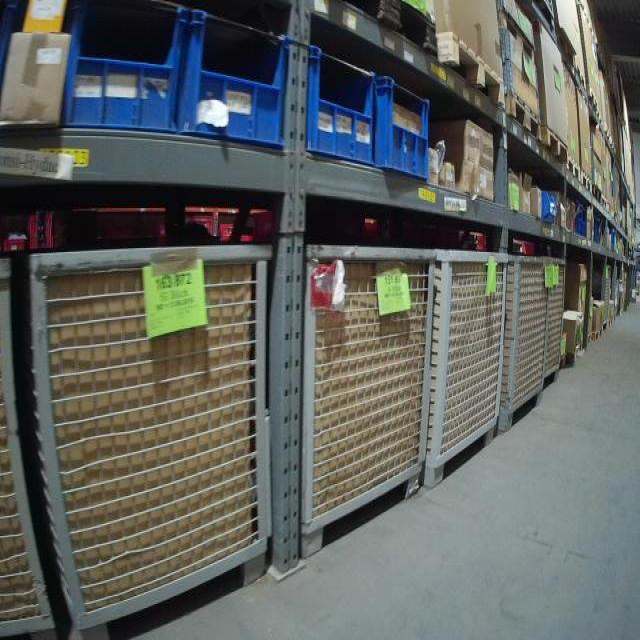pallet: (436, 31, 507, 117), (507, 88, 545, 145), (540, 125, 572, 168), (566, 152, 582, 187), (590, 325, 603, 342)
small_load_carrier: (60, 2, 186, 140), (182, 5, 291, 153), (306, 40, 376, 165), (375, 70, 432, 184)
stillage: (23, 226, 274, 640), (293, 236, 440, 558), (1, 252, 65, 637), (420, 233, 506, 494), (496, 238, 551, 435), (540, 256, 567, 400), (594, 259, 615, 332)
